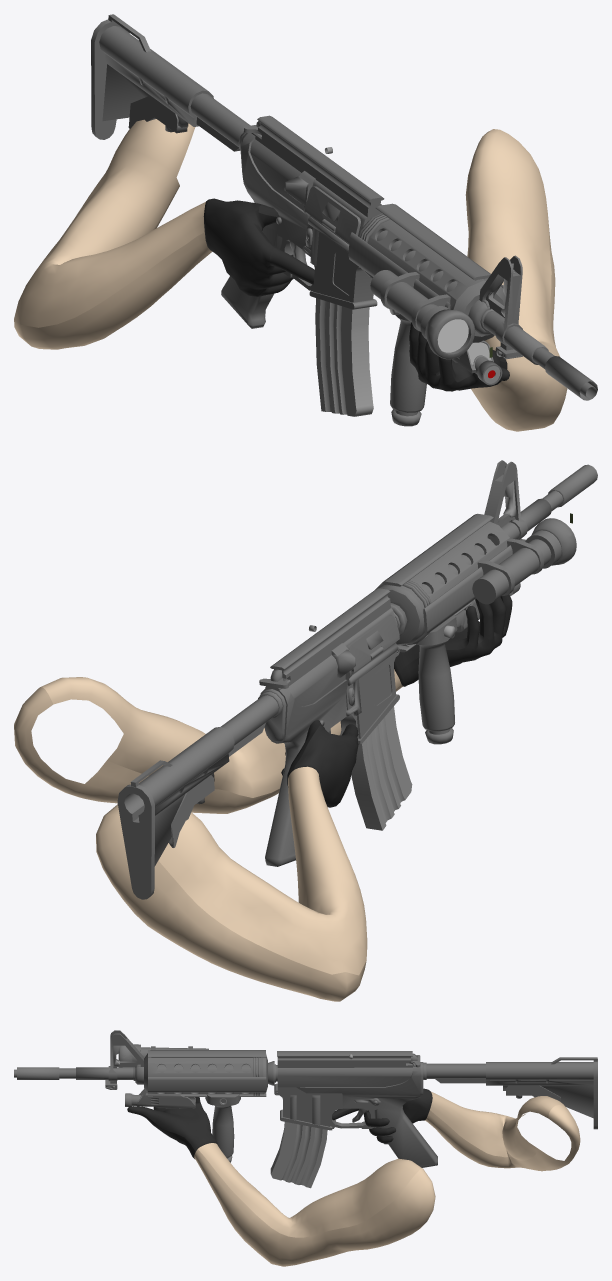
3 renders of one model, top to bottom at view 1: azimuth 30°, elevation 25°; view 2: azimuth 150°, elevation 25°; view 3: azimuth 270°, elevation 25°, orthographic. The views are drawn at different scales.
Parts seen in each view (by area): view 1: g_polySurface2_polySurface24.011_meshId4_name.011, group_31.004_ID581, g_polySurface2_polySurface24_meshId4_name, group_41_ID1350, group_34_ID1191, group_31.005_ID587, group_31.010_ID617, group_33_ID1148, group_31.039_ID793, group_31.056_ID895, group_37.002_ID1236, group_31.041_ID805 (+7 smaller); view 2: g_polySurface2_polySurface24.011_meshId4_name.011, group_31.004_ID581, group_41_ID1350, g_polySurface2_polySurface24_meshId4_name, group_34_ID1191, group_31.005_ID587, group_33_ID1148, group_37.002_ID1236, group_31.039_ID793, group_31.041_ID805, group_31.010_ID617, group_31.056_ID895 (+4 smaller); view 3: g_polySurface2_polySurface24.011_meshId4_name.011, group_31.004_ID581, group_41_ID1350, g_polySurface2_polySurface24_meshId4_name, group_34_ID1191, group_31.005_ID587, group_31.027_ID721, group_33_ID1148, group_31.056_ID895, group_31.010_ID617, group_31.039_ID793, group_32.003_ID1043 (+4 smaller).
Part boxes in pixels (x1=…): g_polySurface2_polySurface24.011_meshId4_name.011: x1=14, y1=119, x2=567, y2=431; group_31.004_ID581: x1=221, y1=115, x2=384, y2=328; g_polySurface2_polySurface24_meshId4_name: x1=203, y1=198, x2=509, y2=391; group_41_ID1350: x1=91, y1=14, x2=213, y2=139; group_34_ID1191: x1=315, y1=298, x2=373, y2=416; group_31.005_ID587: x1=358, y1=213, x2=505, y2=342; group_31.010_ID617: x1=468, y1=255, x2=522, y2=359; group_33_ID1148: x1=390, y1=314, x2=426, y2=412; group_31.039_ID793: x1=375, y1=203, x2=490, y2=280; group_31.056_ID895: x1=190, y1=93, x2=250, y2=151; group_37.002_ID1236: x1=370, y1=270, x2=437, y2=328; group_31.041_ID805: x1=348, y1=232, x2=450, y2=309; g_polySurface2_polySurface24.011_meshId4_name.011: x1=14, y1=669, x2=403, y2=1001; group_31.004_ID581: x1=260, y1=588, x2=399, y2=866; group_41_ID1350: x1=117, y1=726, x2=234, y2=899; g_polySurface2_polySurface24_meshId4_name: x1=281, y1=594, x2=512, y2=807; group_34_ID1191: x1=351, y1=706, x2=412, y2=830; group_31.005_ID587: x1=375, y1=521, x2=509, y2=646; group_33_ID1148: x1=417, y1=614, x2=457, y2=731; group_37.002_ID1236: x1=472, y1=539, x2=551, y2=604; group_31.039_ID793: x1=382, y1=513, x2=493, y2=586; group_31.041_ID805: x1=423, y1=545, x2=512, y2=634; group_31.010_ID617: x1=484, y1=460, x2=527, y2=541; group_31.056_ID895: x1=221, y1=695, x2=278, y2=756; g_polySurface2_polySurface24.011_meshId4_name.011: x1=194, y1=1091, x2=580, y2=1266; group_31.004_ID581: x1=274, y1=1051, x2=437, y2=1167; group_41_ID1350: x1=486, y1=1057, x2=597, y2=1129; g_polySurface2_polySurface24_meshId4_name: x1=127, y1=1088, x2=432, y2=1158; group_34_ID1191: x1=270, y1=1122, x2=327, y2=1188; group_31.005_ID587: x1=144, y1=1053, x2=267, y2=1095; group_31.027_ID721: x1=148, y1=1077, x2=266, y2=1092; group_33_ID1148: x1=205, y1=1094, x2=240, y2=1157; group_31.056_ID895: x1=426, y1=1063, x2=485, y2=1083; group_31.010_ID617: x1=105, y1=1030, x2=143, y2=1089; group_31.039_ID793: x1=148, y1=1050, x2=266, y2=1057; group_32.003_ID1043: x1=131, y1=1089, x2=195, y2=1108.
Size of the model in its own units: 0.081 by 0.0543 by 0.1554.
Materials: 8 (1 with a texture image).
